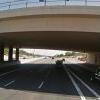Bridge: (5, 2, 100, 50)
